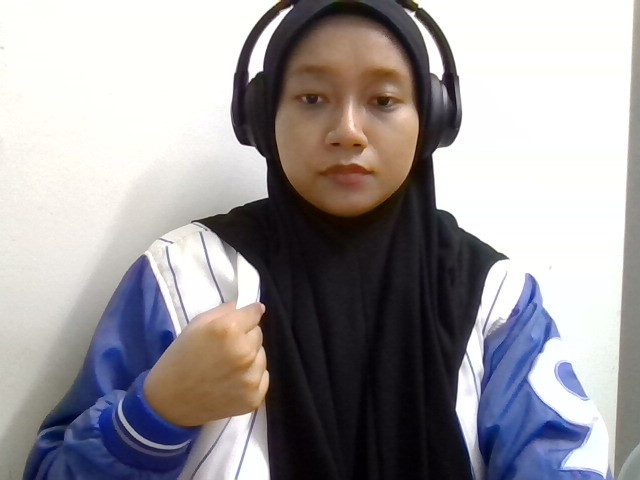Baju: (146, 301, 271, 427)
